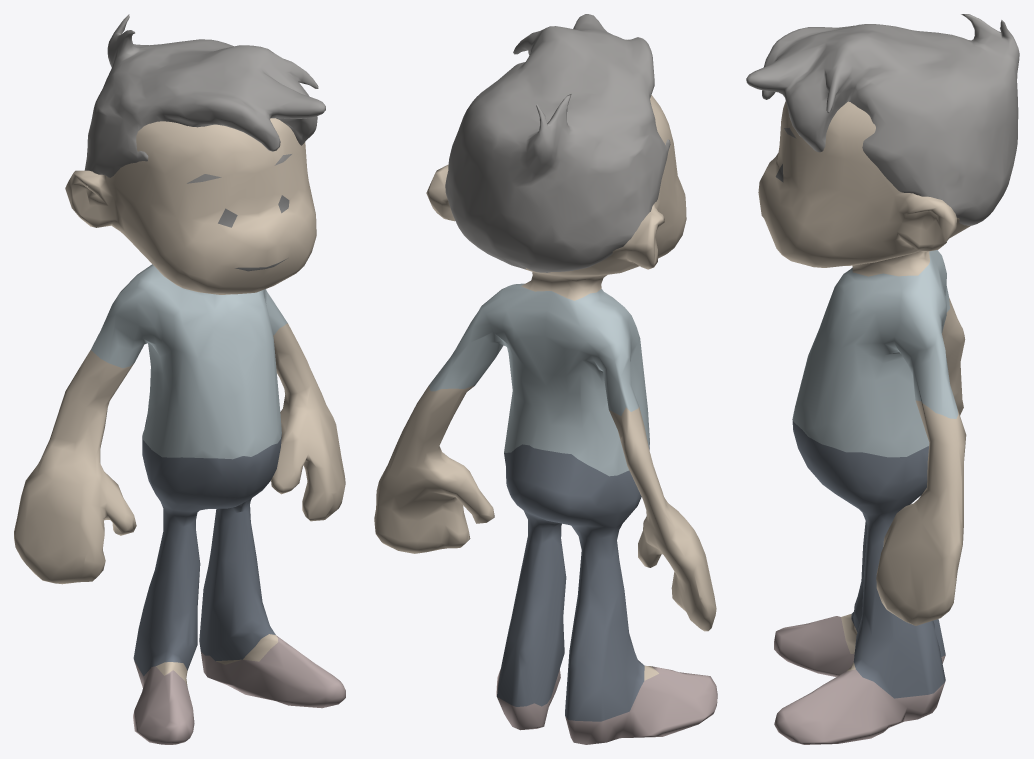
File: mizuiro.fbx
The picture shows the model from 3 angles, left to right: view 1: azimuth 30°, elevation 25°; view 2: azimuth 150°, elevation 25°; view 3: azimuth 270°, elevation 25°; orthographic projection. The views are drawn at different scales.
Visible parts, largest first — view 1: PM3D_Sphere3D1_3; view 2: PM3D_Sphere3D1_3; view 3: PM3D_Sphere3D1_3.
Part boxes in pixels (left/top/right/bottom): PM3D_Sphere3D1_3: left=14, top=14, right=345, bottom=744; PM3D_Sphere3D1_3: left=374, top=14, right=717, bottom=744; PM3D_Sphere3D1_3: left=746, top=14, right=1019, bottom=744.
Size of the model in its own units: 5.06 by 9.77 by 3.56.
